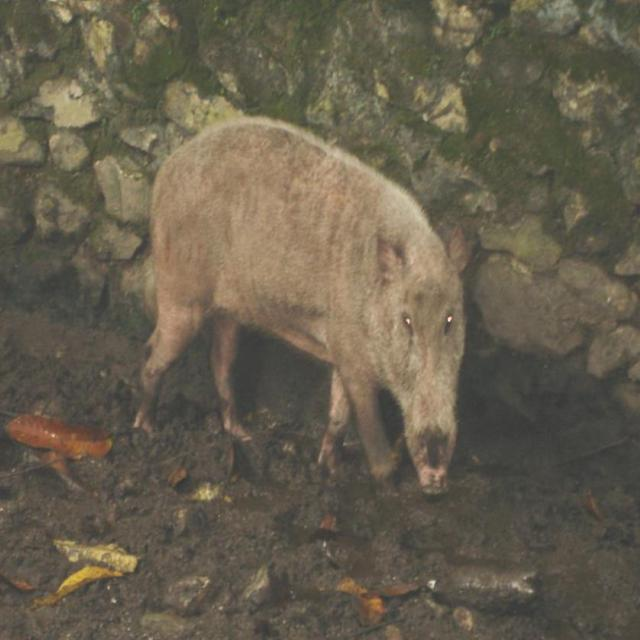pig: (135, 117, 465, 493)
